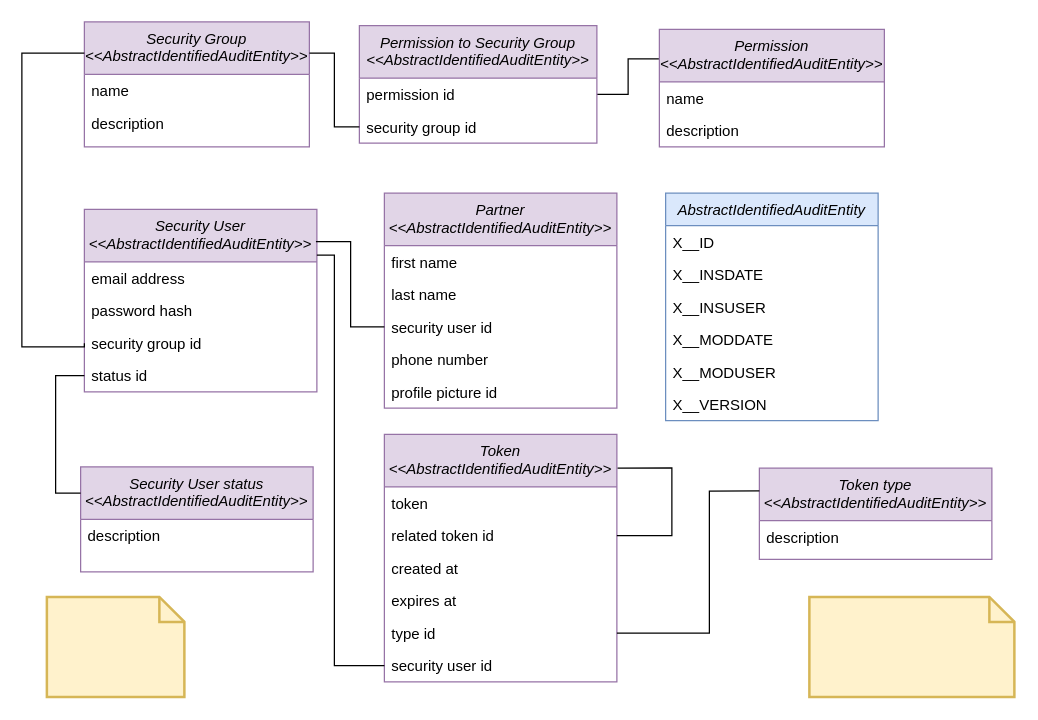
This 1038x720 diagram has some shape labels left out. The shapes that lost their labels are listed below. From the top down, each one's centre as x and y in pixels, then its label:
point (115, 646): ACTIVE INACTIVE BANNED
point (911, 646): ACCESS_TOKEN REFRESH_TOKEN ACTIVATION_TOKEN
